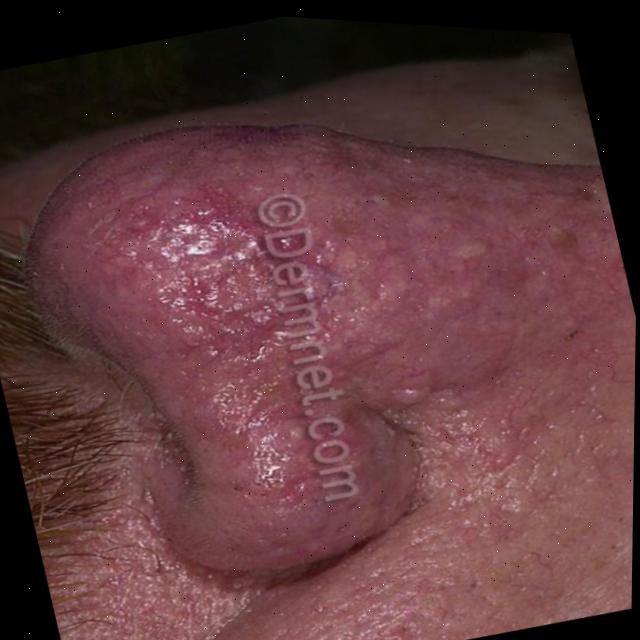Rosacea: (0, 8, 640, 518)
